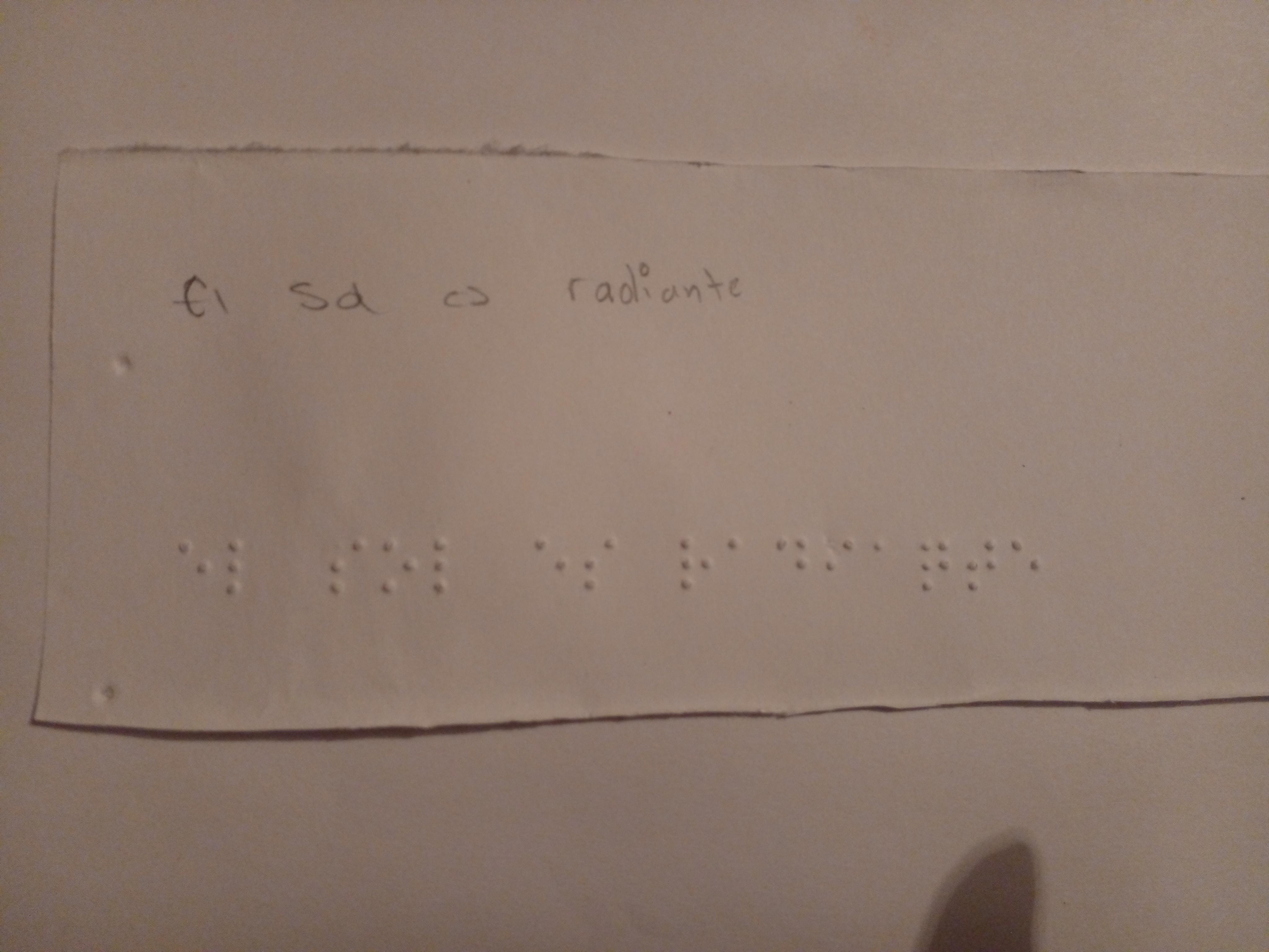a: (863, 510, 905, 612), (717, 524, 764, 610)
d: (770, 518, 813, 604)
e: (998, 518, 1053, 615), (170, 521, 217, 621), (530, 513, 576, 612)
i: (816, 513, 860, 612)
l: (418, 513, 466, 626), (218, 518, 254, 626)
n: (909, 511, 956, 617)
o: (373, 507, 423, 629)
r: (669, 511, 720, 617)
s: (304, 496, 369, 617), (581, 514, 624, 618)
t: (960, 508, 1002, 623)
